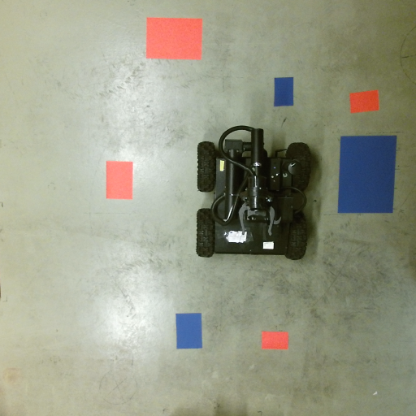Blue: (335, 135, 396, 215), (176, 314, 203, 350), (273, 76, 294, 107)
Jaguar: (193, 126, 313, 263)
Red: (144, 15, 203, 62), (104, 160, 134, 201), (348, 89, 380, 113), (259, 331, 289, 351)
